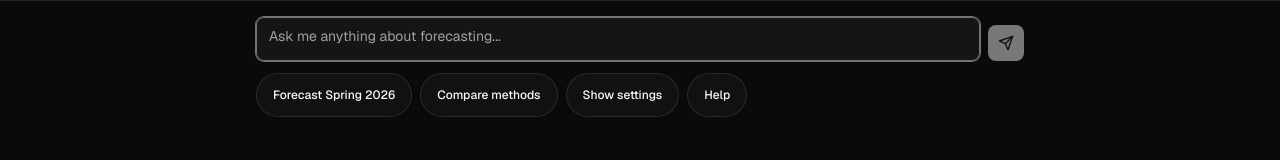
ChatInput › send button enables after typing
Type "hello" into the text box named "chat message" at (618, 39), box [256, 17, 980, 61]
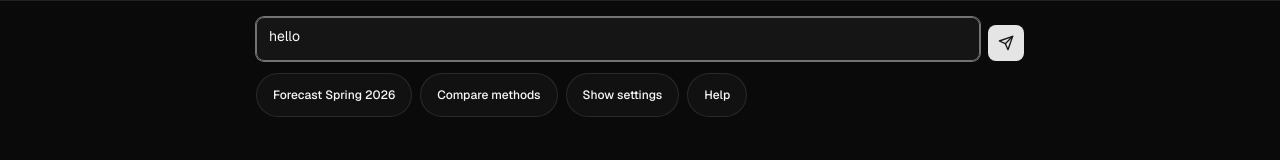
Check: the button named "send message" is enabled, box [988, 25, 1024, 61]
